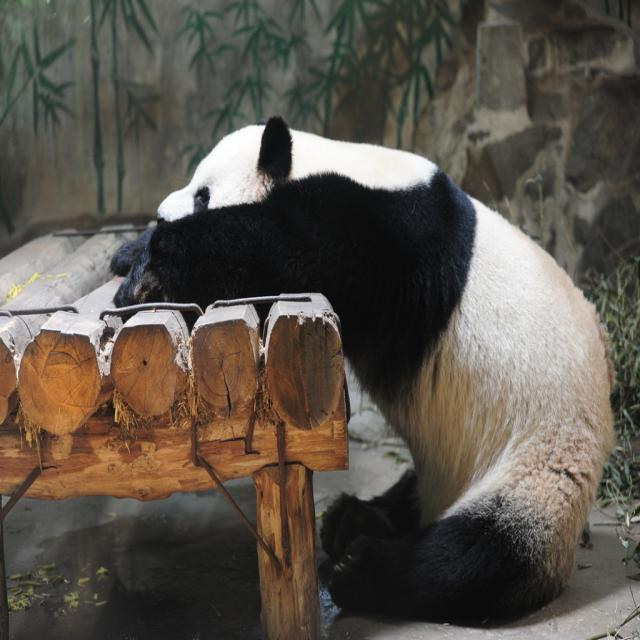panda: (108, 112, 620, 628)
